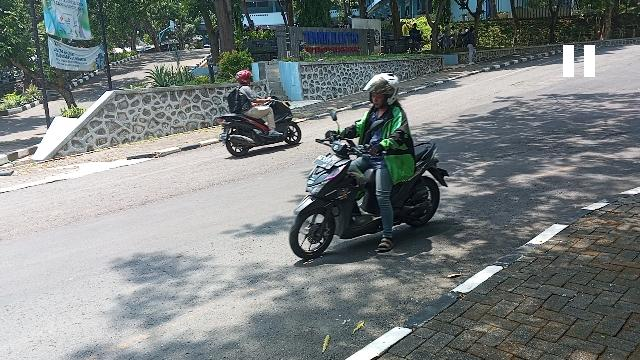helm: (367, 73, 400, 107), (236, 71, 254, 86)
motor: (290, 137, 449, 260), (218, 99, 303, 158)
